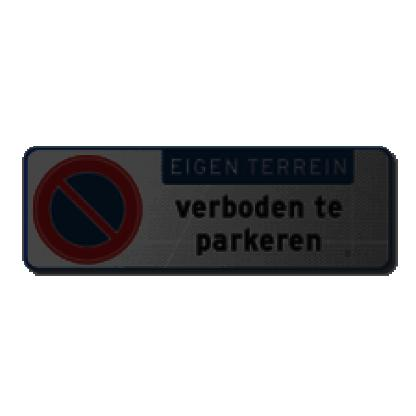No parking: (31, 156, 148, 263)
